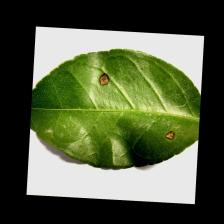canker: (79, 63, 190, 148)
